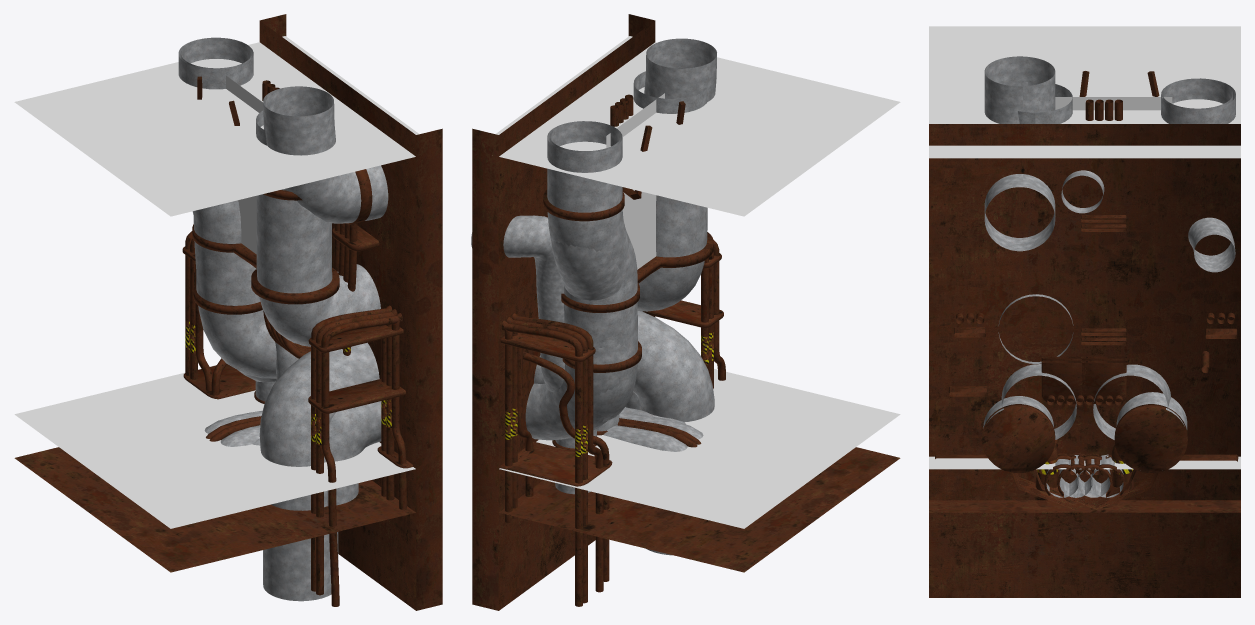
File: ship_vent_room.fbx
3 views of the same model, side by side, from view 1: azimuth 30°, elevation 25°; view 2: azimuth 150°, elevation 25°; view 3: azimuth 270°, elevation 25° (orthographic).
Parts seen in each view (by area): view 1: RoomBase_LOD0, RoomEntry_left_LOD0, RoomEntry_end_LOD0, RoomEntry_right_LOD0; view 2: RoomBase_LOD0, RoomEntry_left_LOD0, RoomEntry_end_LOD0, RoomEntry_right_LOD0; view 3: RoomEntry_end_LOD0, RoomEntry_left_LOD0, RoomBase_LOD0, RoomEntry_right_LOD0.
Boxes of the visible parts, x1,y1,x2,y2 form: RoomBase_LOD0: (14, 36, 419, 572); RoomEntry_left_LOD0: (180, 14, 442, 609); RoomEntry_end_LOD0: (254, 14, 442, 610); RoomEntry_right_LOD0: (178, 18, 442, 609); RoomBase_LOD0: (495, 36, 900, 572); RoomEntry_left_LOD0: (472, 19, 725, 610); RoomEntry_end_LOD0: (471, 14, 716, 610); RoomEntry_right_LOD0: (472, 15, 713, 610); RoomEntry_end_LOD0: (929, 56, 1240, 597); RoomEntry_left_LOD0: (929, 71, 1240, 597); RoomBase_LOD0: (929, 26, 1240, 512); RoomEntry_right_LOD0: (929, 71, 1240, 597).
Size of what is drawn, in the model's own units: 205 by 348 by 200.
